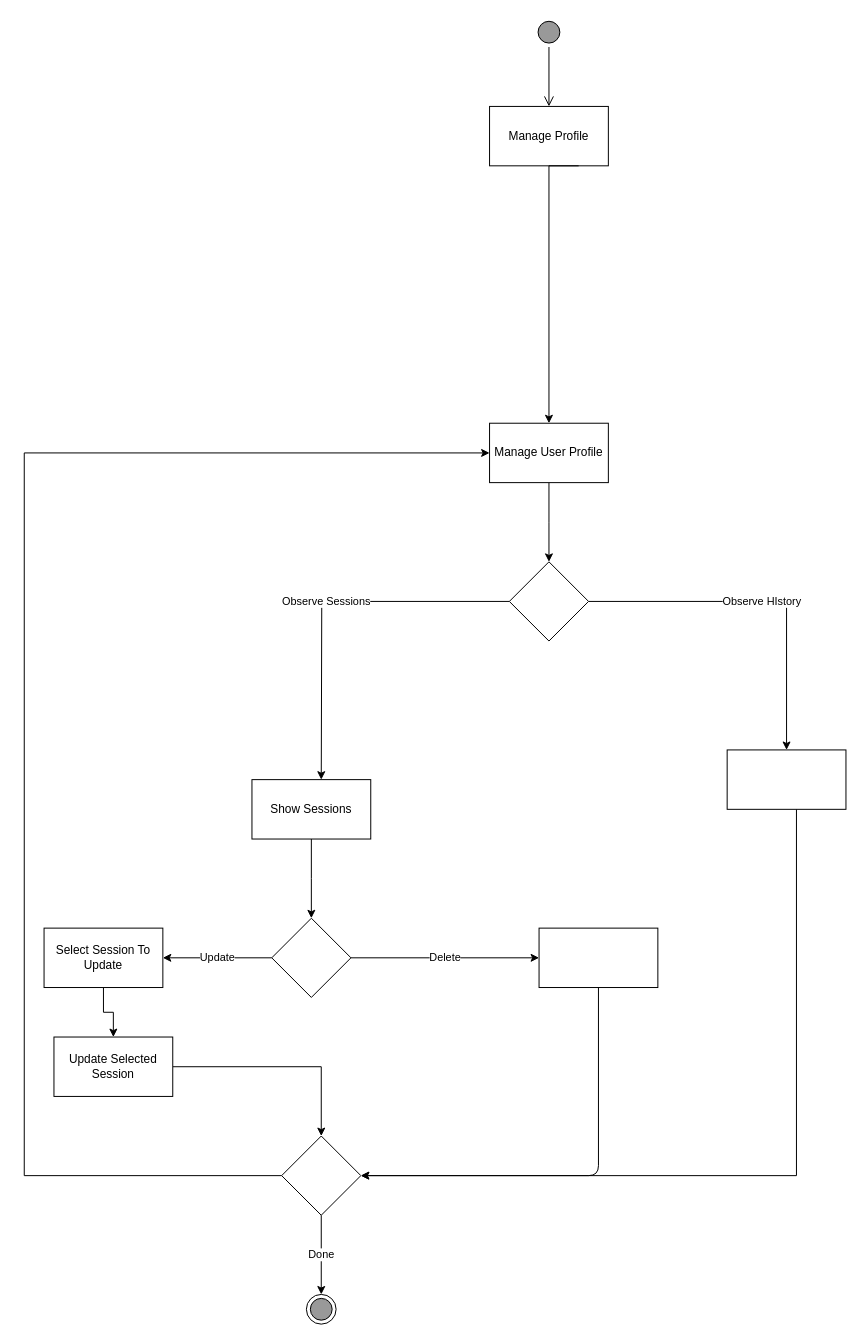
Image size: 863x1341. Some labels were removed from this diagram. The shapes that lost their labels are listed below. From the top down, each one's box as (x1, y1, x2, y2) in pixels, then its label:
(726, 749, 846, 809): Show History Page
(538, 927, 658, 988): Select Session To Remove
